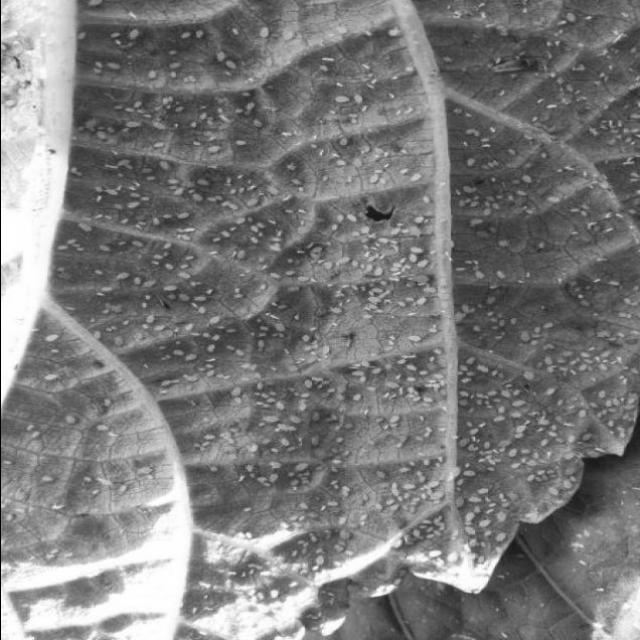Aphids: (0, 1, 448, 588), (450, 0, 640, 587)
